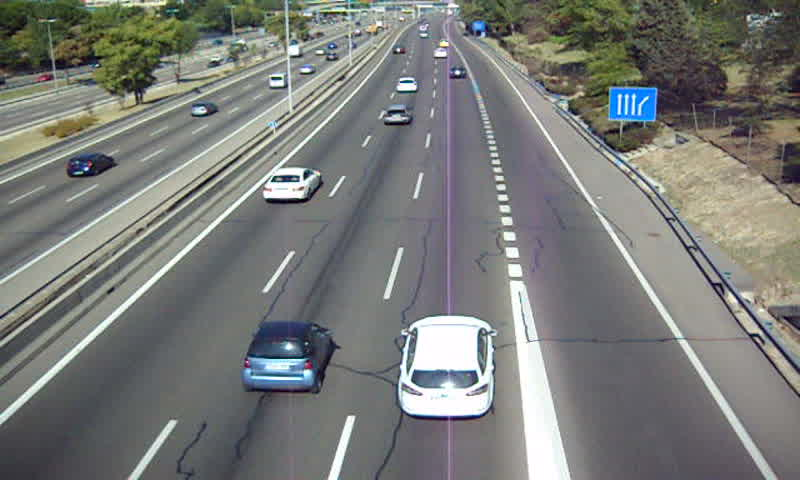car: (396, 314, 498, 418), (242, 321, 338, 393), (260, 167, 322, 202), (382, 104, 412, 127), (395, 76, 420, 93), (448, 65, 466, 78)
